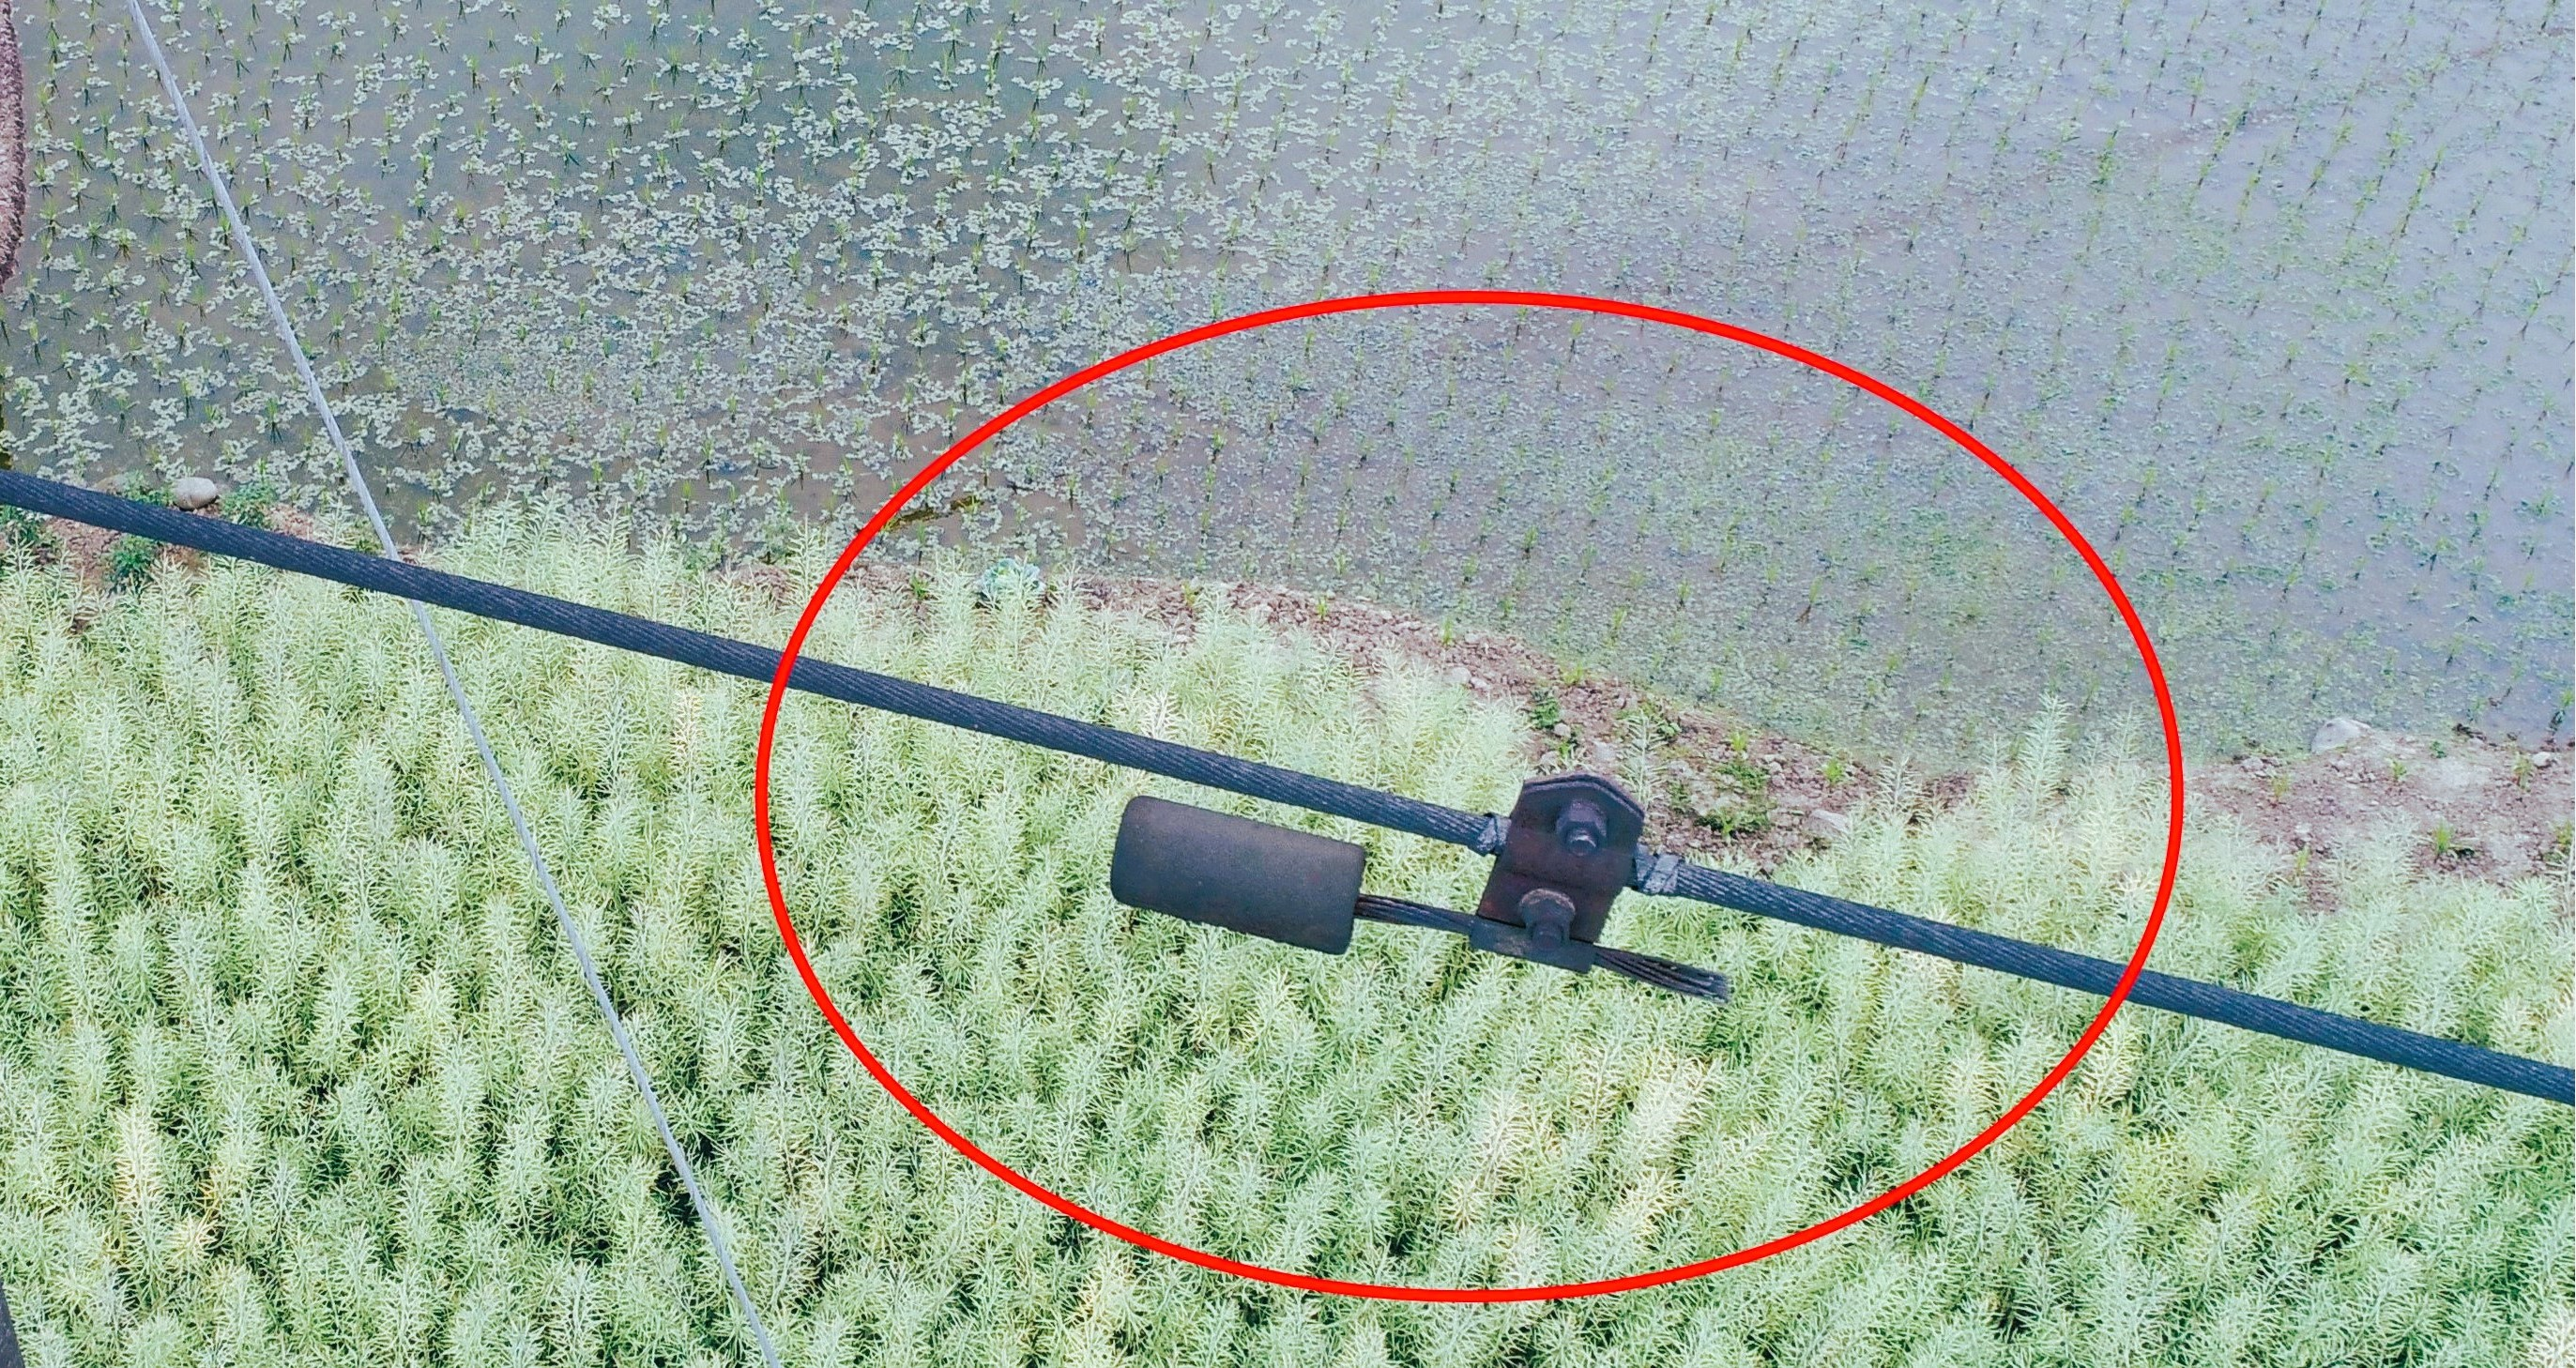Damage of shockproof hammer: (1087, 712, 1779, 1043)
